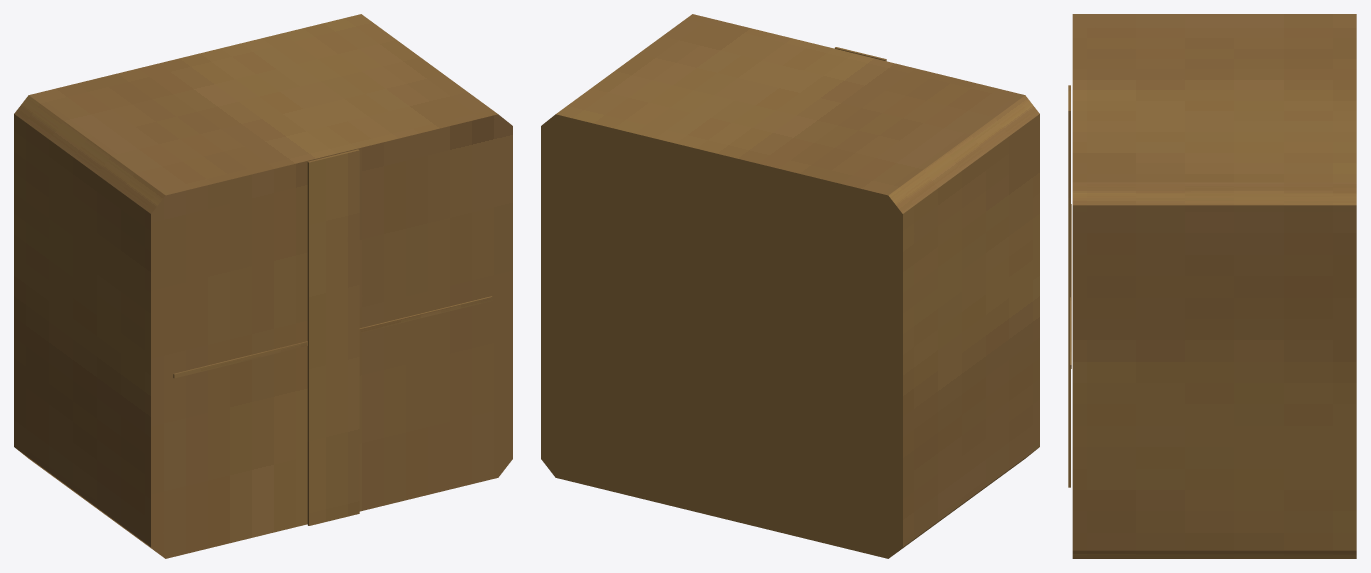
File: cardboard_box.obj
The picture shows the model from 3 angles, left to right: view 1: azimuth 30°, elevation 25°; view 2: azimuth 150°, elevation 25°; view 3: azimuth 270°, elevation 25°; orthographic projection. The views are drawn at different scales.
Parts seen in each view (by area): view 1: cardboard_box; view 2: cardboard_box; view 3: cardboard_box.
Part boxes in pixels (x1,y1,x2,y2): cardboard_box: (14,14,512,558); cardboard_box: (541,14,1039,558); cardboard_box: (1068,14,1356,558).
Bounding box in the file's own units: 0.756 × 0.73 × 0.504.
1 material, 1 textured.
